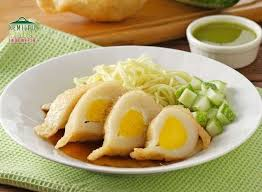Pempek kapal selam: (37, 77, 211, 159)
